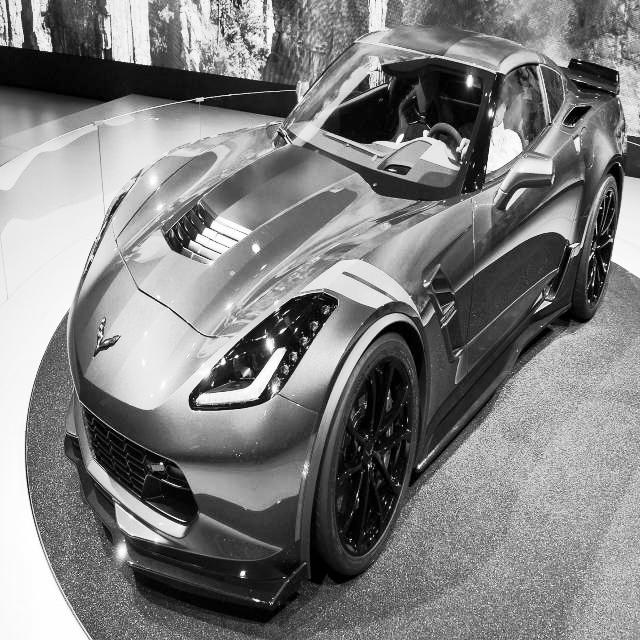Car: (60, 0, 638, 628)
